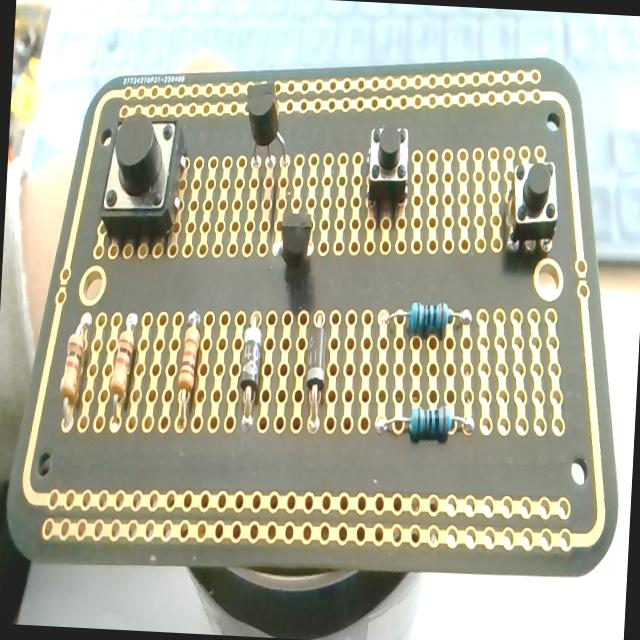diode: (236, 310, 264, 436), (302, 314, 330, 438)
resistor: (376, 403, 474, 444), (382, 298, 473, 342), (58, 312, 90, 421), (107, 312, 137, 426), (175, 311, 202, 431)
switch: (98, 108, 192, 248), (507, 154, 562, 254), (366, 124, 410, 206)
transistor: (236, 80, 308, 173), (268, 200, 328, 282)
